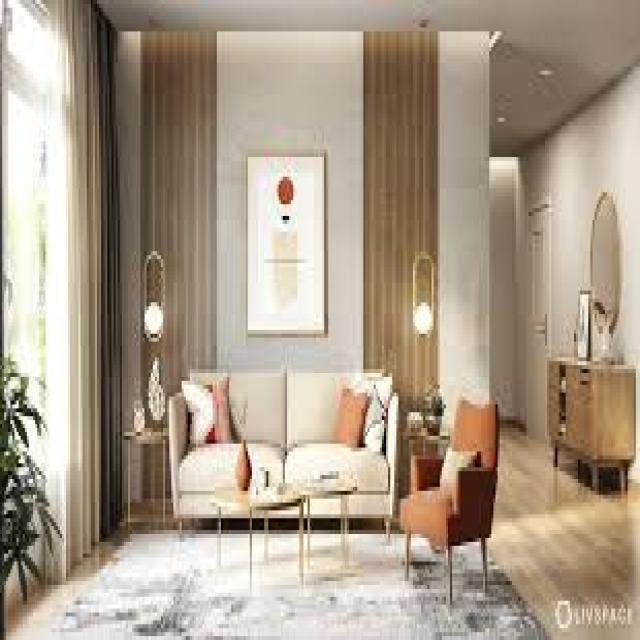Chair: (403, 388, 502, 584)
Lamp: (138, 250, 168, 426), (408, 253, 436, 406)
Sofa: (166, 366, 400, 561)
Table: (216, 466, 363, 578), (544, 341, 635, 503)
